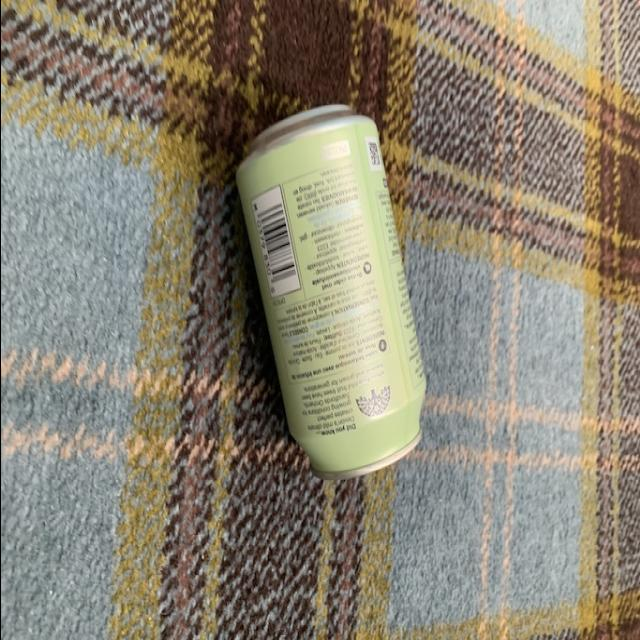litter: (232, 97, 426, 485)
